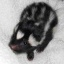skunk: (8, 3, 58, 60)
